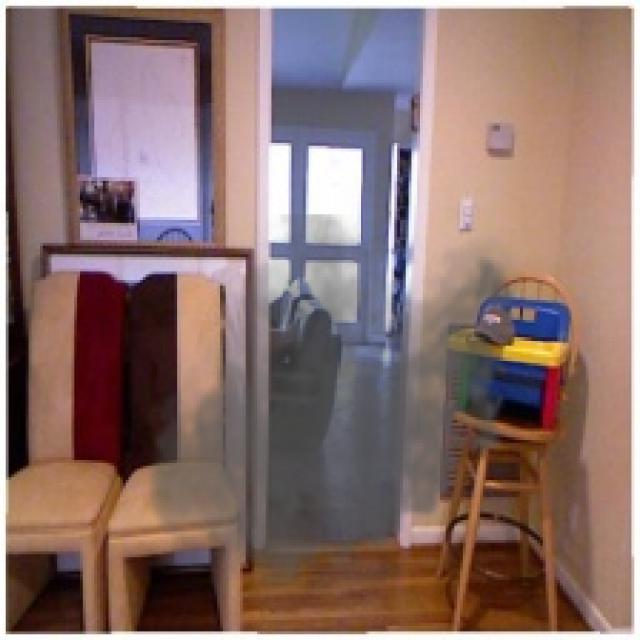smoke: (140, 214, 529, 606)
